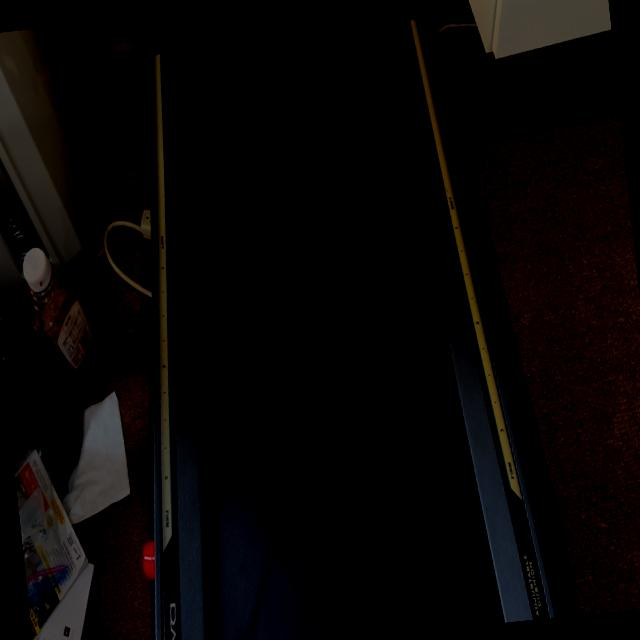Trash: (233, 91, 359, 202)
